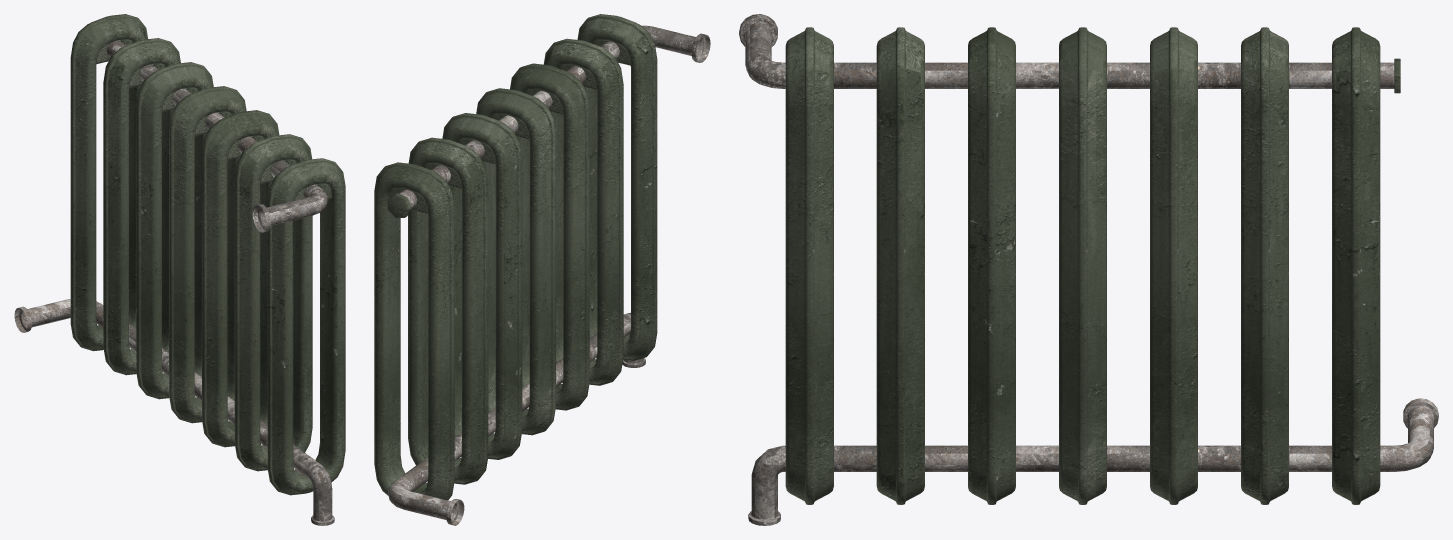
File: Radiator.FBX
3 renders of one model, left to right at view 1: azimuth 30°, elevation 25°; view 2: azimuth 150°, elevation 25°; view 3: azimuth 270°, elevation 25°, orthographic. The views are drawn at different scales.
Parts seen in each view (by area): view 1: Radiator; view 2: Radiator; view 3: Radiator.
Boxes of the visible parts, left/top/right/bottom form: Radiator: left=14, top=14, right=345, bottom=525; Radiator: left=374, top=14, right=710, bottom=525; Radiator: left=739, top=14, right=1438, bottom=525.
Bounding box in the file's own units: 20.29 × 65.31 × 85.82.
